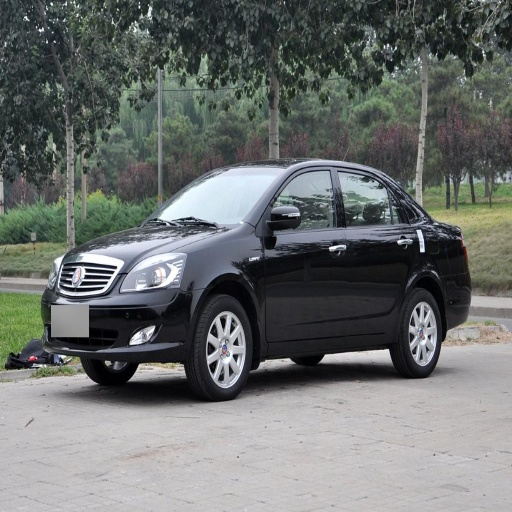front_bumper: (45, 260, 195, 359)
front_glass: (158, 170, 273, 225)
front_left_door: (259, 166, 347, 340)
